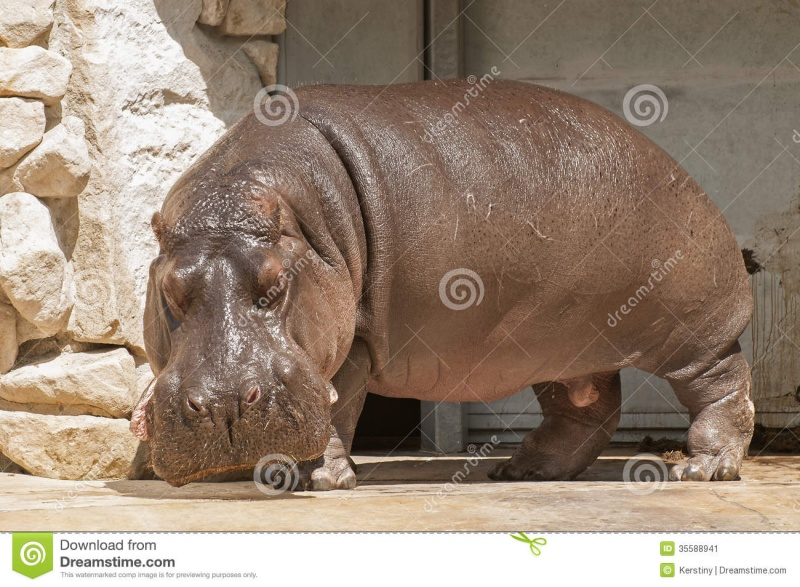hipopotamo: (126, 71, 760, 491)
